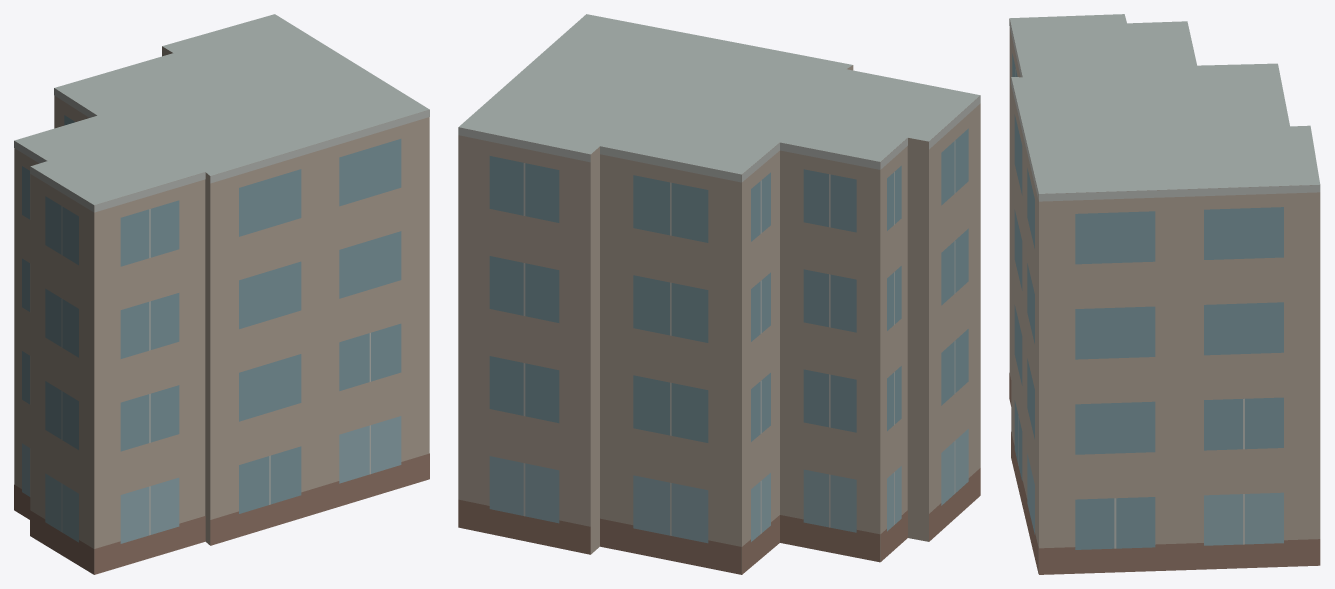
The model's file is survey-upis-32586345.glb.
The picture shows the model from 3 angles, left to right: view 1: azimuth 30°, elevation 25°; view 2: azimuth 150°, elevation 25°; view 3: azimuth 270°, elevation 25°; orthographic projection. The views are drawn at different scales.
Parts seen in each view (by area): view 1: survey-upis-32586345.tmp; view 2: survey-upis-32586345.tmp; view 3: survey-upis-32586345.tmp.
Boxes of the visible parts, left/top/right/bottom form: survey-upis-32586345.tmp: left=14, top=14, right=429, bottom=574; survey-upis-32586345.tmp: left=458, top=14, right=980, bottom=574; survey-upis-32586345.tmp: left=1009, top=14, right=1320, bottom=574.
Bounding box in the file's own units: 12.37 × 12.2 × 9.03.
